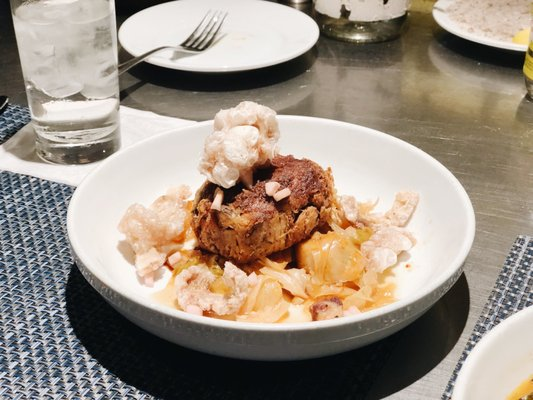burger: (118, 9, 228, 75)
sushi: (56, 106, 475, 361), (452, 303, 533, 400)
